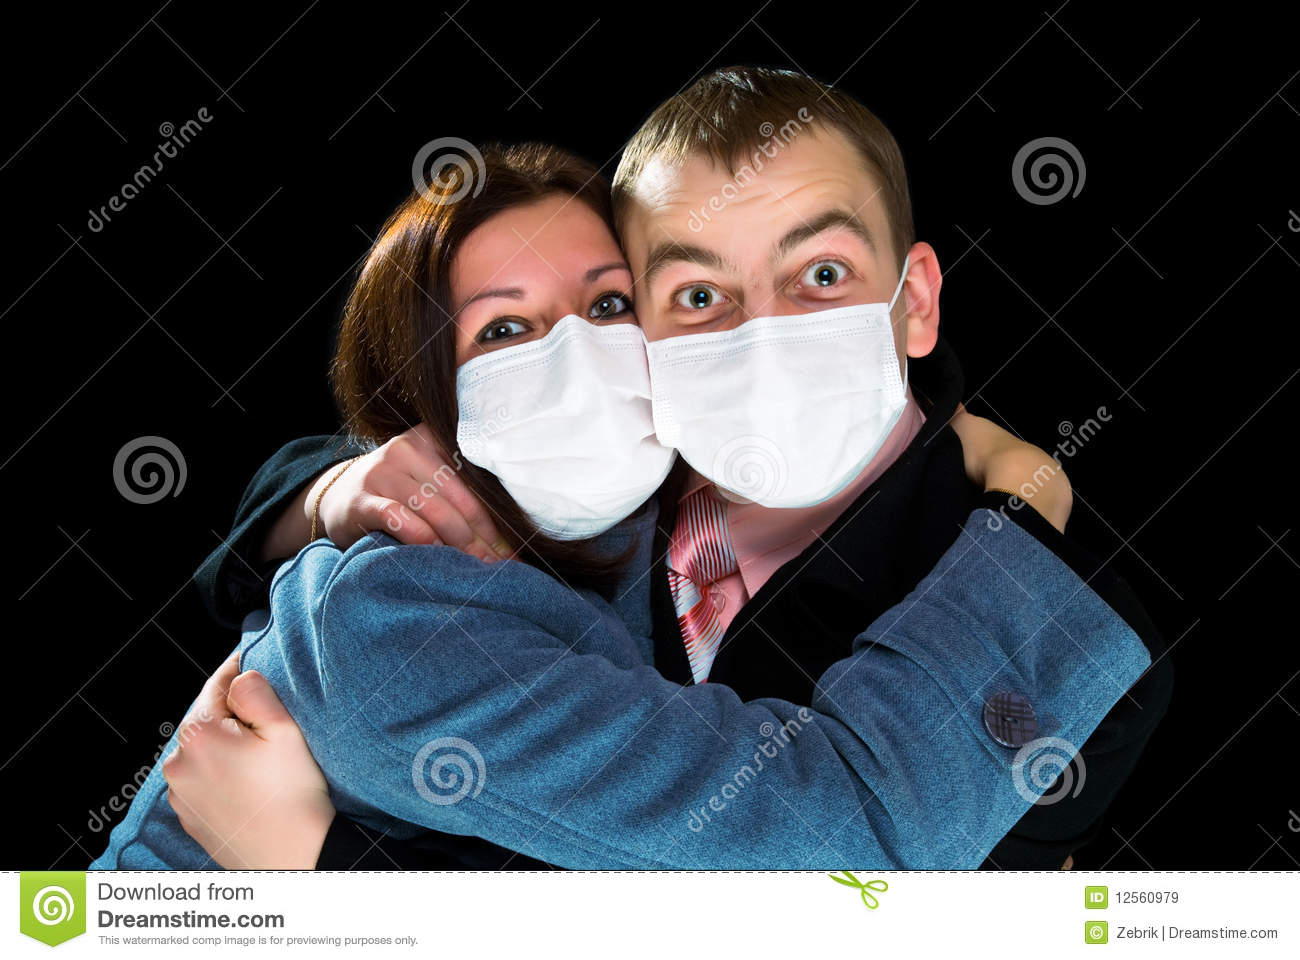mask: (648, 331, 917, 508), (458, 355, 670, 545)
